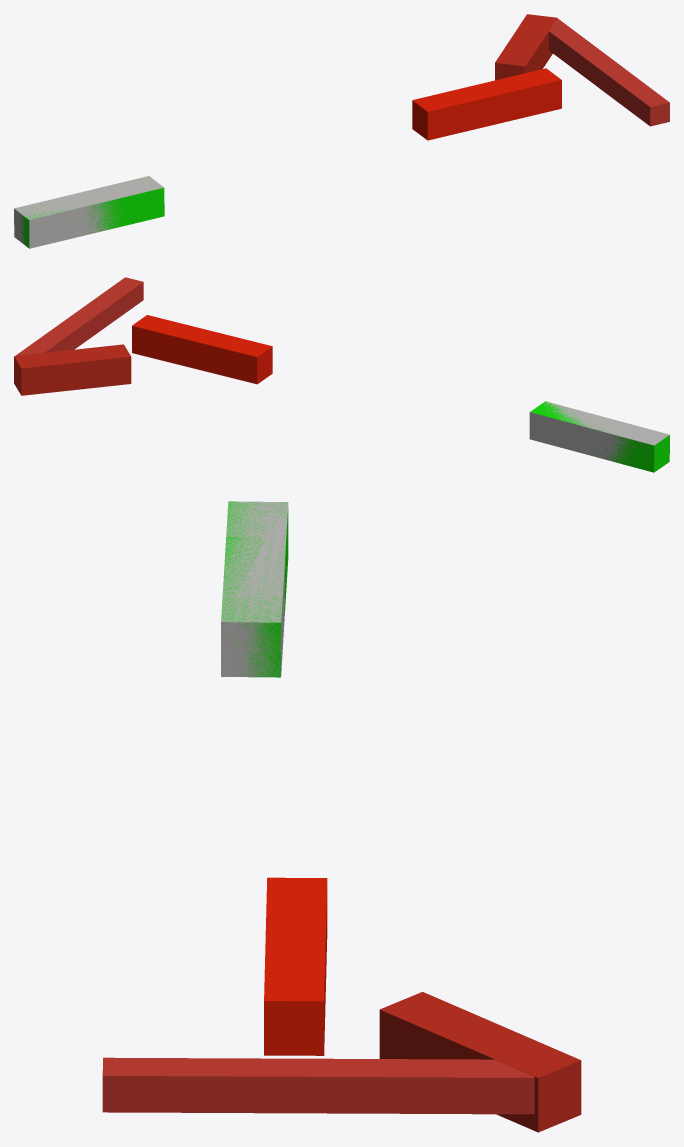
Rendered from PointMinus.fbx.
3 views of the same model, one above another, from view 1: azimuth 30°, elevation 25°; view 2: azimuth 150°, elevation 25°; view 3: azimuth 270°, elevation 25° (orthographic). The views are drawn at different scales.
Visible parts, largest first — view 1: Cube.007, Cube.008, Cube.005, Cube.006, Cube.009; view 2: Cube.007, Cube.006, Cube.008, Cube.005, Cube.009; view 3: Cube.005, Cube.006, Cube.007, Cube.008, Cube.009.
Boxes of the visible parts, x1=… form: Cube.007: x1=412, y1=68, x2=561, y2=140; Cube.008: x1=14, y1=176, x2=163, y2=248; Cube.005: x1=549, y1=18, x2=669, y2=126; Cube.006: x1=495, y1=14, x2=557, y2=80; Cube.009: x1=19, y1=176, x2=164, y2=248; Cube.007: x1=132, y1=315, x2=272, y2=384; Cube.006: x1=14, y1=344, x2=131, y2=395; Cube.008: x1=529, y1=401, x2=669, y2=463; Cube.005: x1=15, y1=277, x2=143, y2=355; Cube.009: x1=530, y1=401, x2=669, y2=472; Cube.005: x1=102, y1=1057, x2=534, y2=1114; Cube.006: x1=379, y1=992, x2=581, y2=1132; Cube.007: x1=264, y1=877, x2=327, y2=1055; Cube.008: x1=221, y1=501, x2=288, y2=677; Cube.009: x1=221, y1=501, x2=288, y2=677.
Size of the model in its own units: 44.41 by 2.54 by 15.91.
